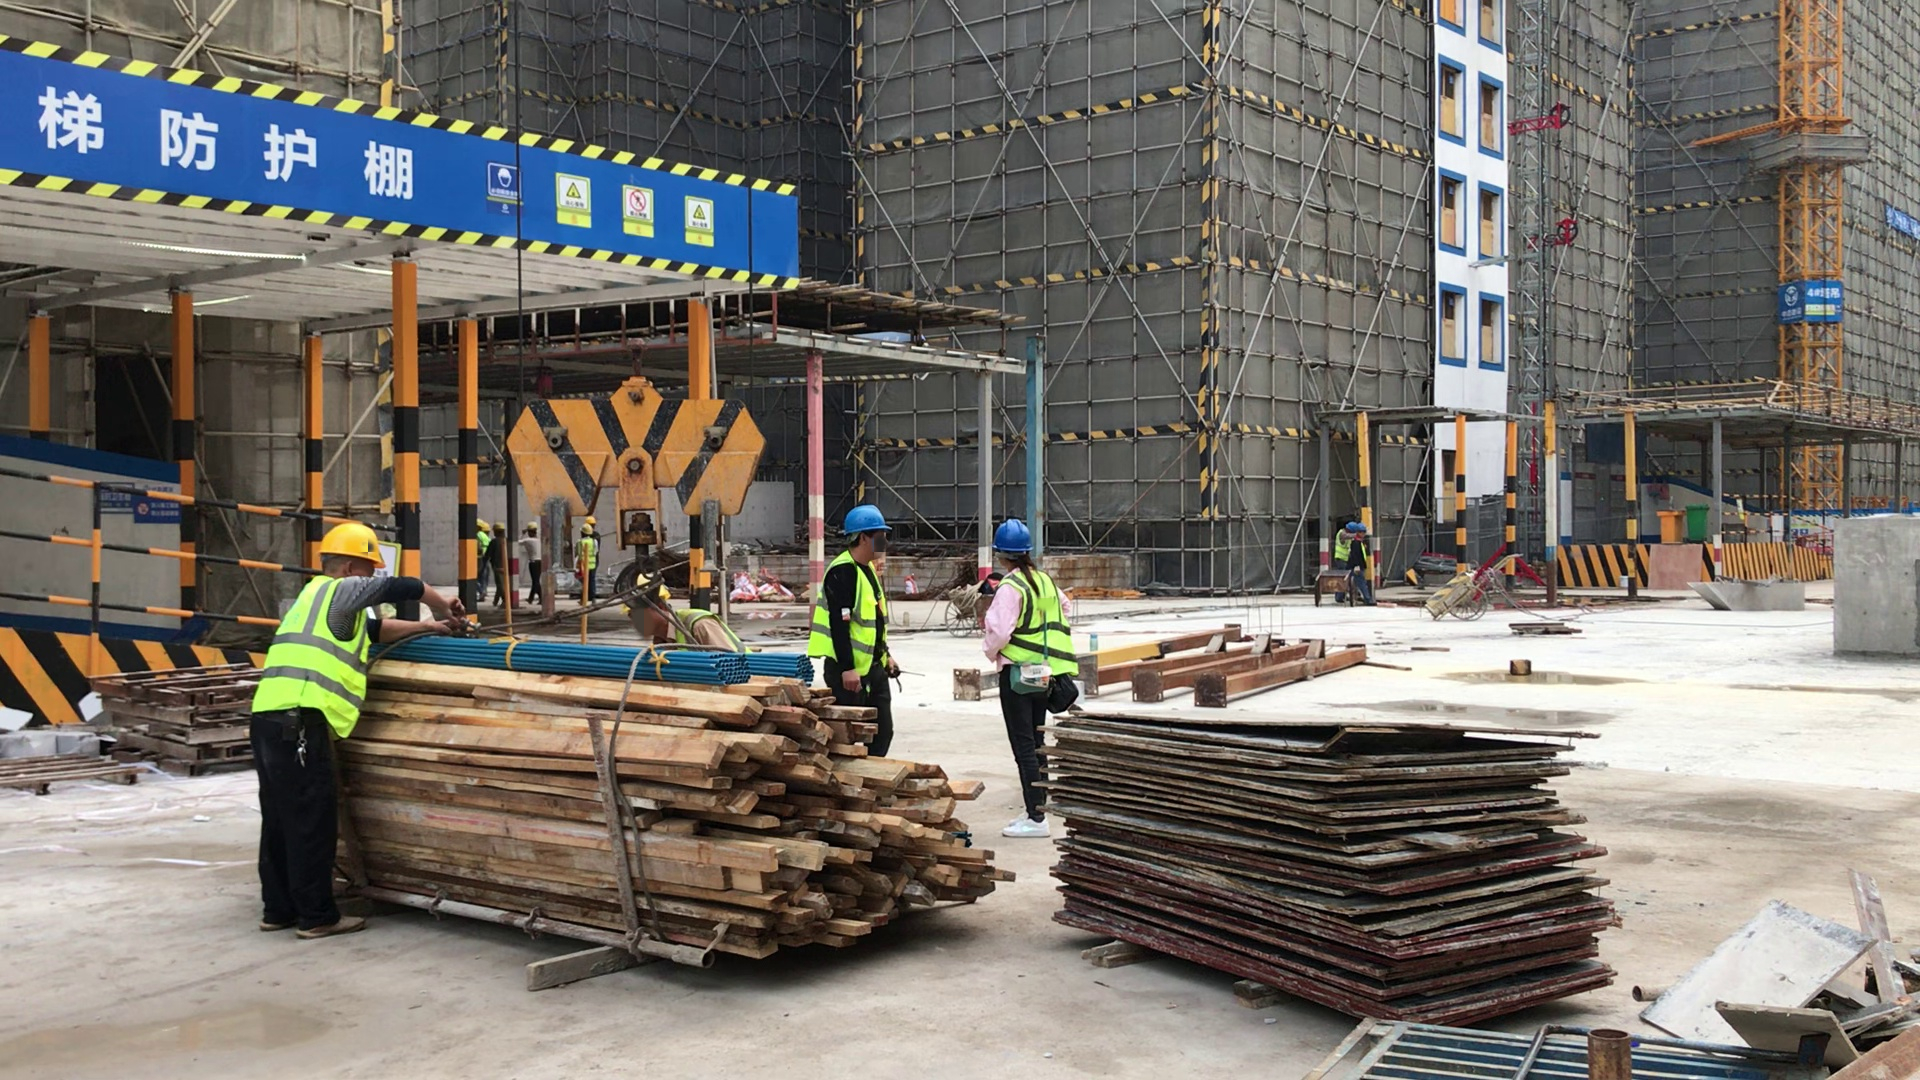board: (1025, 684, 1629, 1027)
handcart: (1415, 550, 1530, 630)
helmet: (311, 521, 385, 571), (836, 503, 892, 535), (987, 518, 1034, 552), (578, 522, 595, 537), (477, 520, 490, 532), (491, 522, 506, 531), (1345, 522, 1358, 533), (524, 522, 539, 530), (1355, 523, 1367, 533), (587, 516, 598, 524)
hook: (503, 380, 770, 530)
hopper: (1691, 576, 1811, 608)
person: (257, 524, 388, 939), (984, 524, 1075, 827), (827, 509, 893, 765), (612, 576, 745, 658), (520, 521, 540, 602), (1351, 526, 1370, 596), (474, 523, 490, 597), (576, 527, 596, 591), (494, 523, 506, 604), (1336, 521, 1351, 577)
vest: (256, 568, 371, 738), (996, 565, 1074, 687), (829, 549, 890, 678), (668, 603, 741, 655), (575, 538, 595, 570), (1336, 530, 1350, 563), (474, 532, 489, 554)
wood: (360, 606, 1008, 998)
